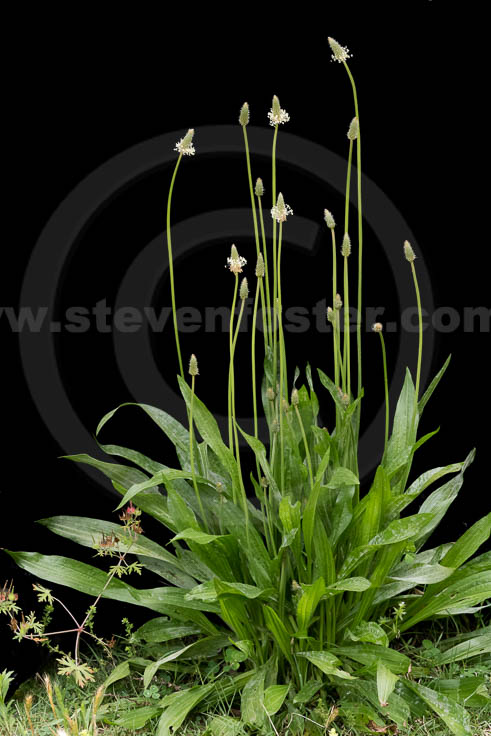buckhorn plantain: (125, 26, 477, 681)
